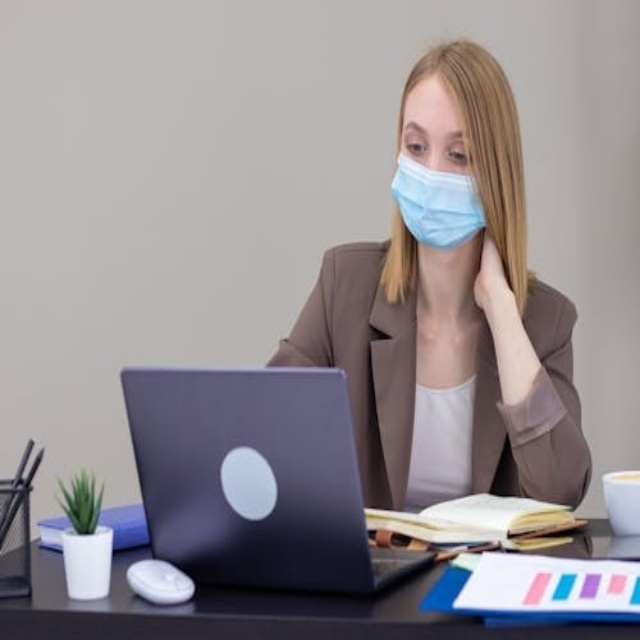Mascara: (390, 152, 488, 250)
Sin_gafas: (447, 149, 468, 165), (406, 140, 427, 155)
